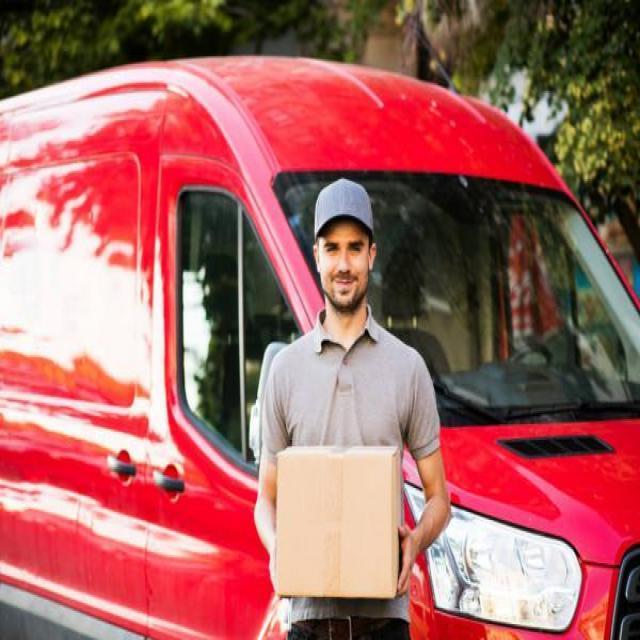box: (270, 438, 406, 610)
